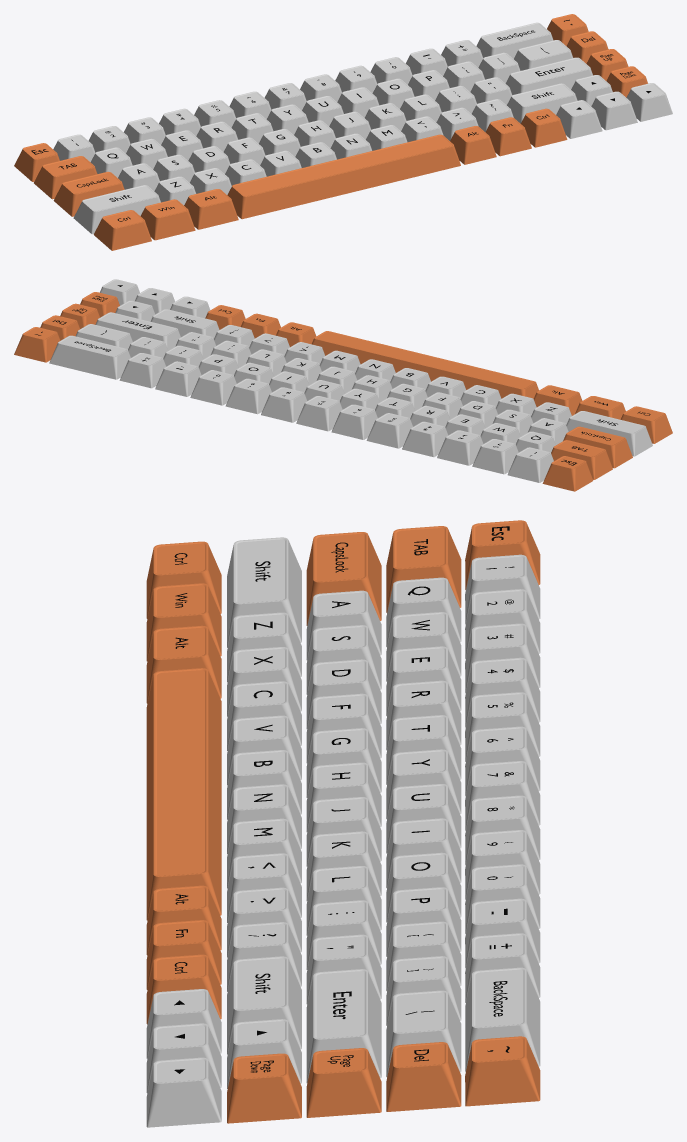
The model's file is Keyboard.fbx.
3 views of the same model, one above another, from view 1: azimuth 30°, elevation 25°; view 2: azimuth 150°, elevation 25°; view 3: azimuth 270°, elevation 25° (orthographic). The views are drawn at different scales.
Visible parts, largest first — view 1: KeyBoard, SpaceKey, ShiftKey, EnterKey, BackSpace, RightShiftKey, DownKey, LeftKey, RightKey, \Key, IKey, OKey (+44 smaller); view 2: KeyBoard, SpaceKey, BackSpace, ShiftKey, EnterKey, 8Key, +Key, 9Key, 2Key, 3Key, 1Key, 6Key (+44 smaller); view 3: KeyBoard, SpaceKey, EnterKey, ShiftKey, BackSpace, RightShiftKey, RightKey, \Key, UKey, [Key, -Key, JKey (+44 smaller).
Part boxes in pixels (bbox=[...]): KeyBoard: bbox=[14, 14, 647, 250]; SpaceKey: bbox=[227, 134, 460, 219]; ShiftKey: bbox=[73, 185, 160, 234]; EnterKey: bbox=[505, 57, 592, 94]; BackSpace: bbox=[476, 22, 553, 58]; RightShiftKey: bbox=[507, 83, 577, 123]; DownKey: bbox=[591, 91, 637, 130]; LeftKey: bbox=[556, 100, 602, 138]; RightKey: bbox=[626, 83, 672, 121]; \Key: bbox=[514, 40, 573, 70]; IKey: bbox=[337, 87, 378, 117]; OKey: bbox=[372, 78, 414, 109]; KeyBoard: bbox=[14, 292, 672, 491]; SpaceKey: bbox=[312, 331, 538, 398]; BackSpace: bbox=[49, 335, 130, 379]; ShiftKey: bbox=[566, 411, 652, 456]; EnterKey: bbox=[95, 312, 180, 350]; 8Key: bbox=[261, 387, 306, 422]; +Key: bbox=[119, 353, 166, 388]; 9Key: bbox=[225, 378, 271, 414]; 2Key: bbox=[472, 439, 518, 474]; 3Key: bbox=[437, 430, 483, 465]; 1Key: bbox=[507, 447, 553, 482]; 6Key: bbox=[331, 404, 377, 439]; KeyBoard: bbox=[146, 520, 540, 1123]; SpaceKey: bbox=[146, 668, 221, 920]; EnterKey: bbox=[306, 969, 381, 1082]; ShiftKey: bbox=[227, 537, 301, 647]; BackSpace: bbox=[465, 967, 540, 1071]; RightShiftKey: bbox=[227, 956, 301, 1054]; RightKey: bbox=[146, 1057, 221, 1127]; \Key: bbox=[386, 990, 461, 1077]; UKey: bbox=[386, 784, 461, 853]; [Key: bbox=[386, 921, 461, 991]; -Key: bbox=[465, 898, 540, 968]; JKey: bbox=[306, 797, 381, 866].
Size of the model in its own units: 297 by 16.26 by 90.06.
